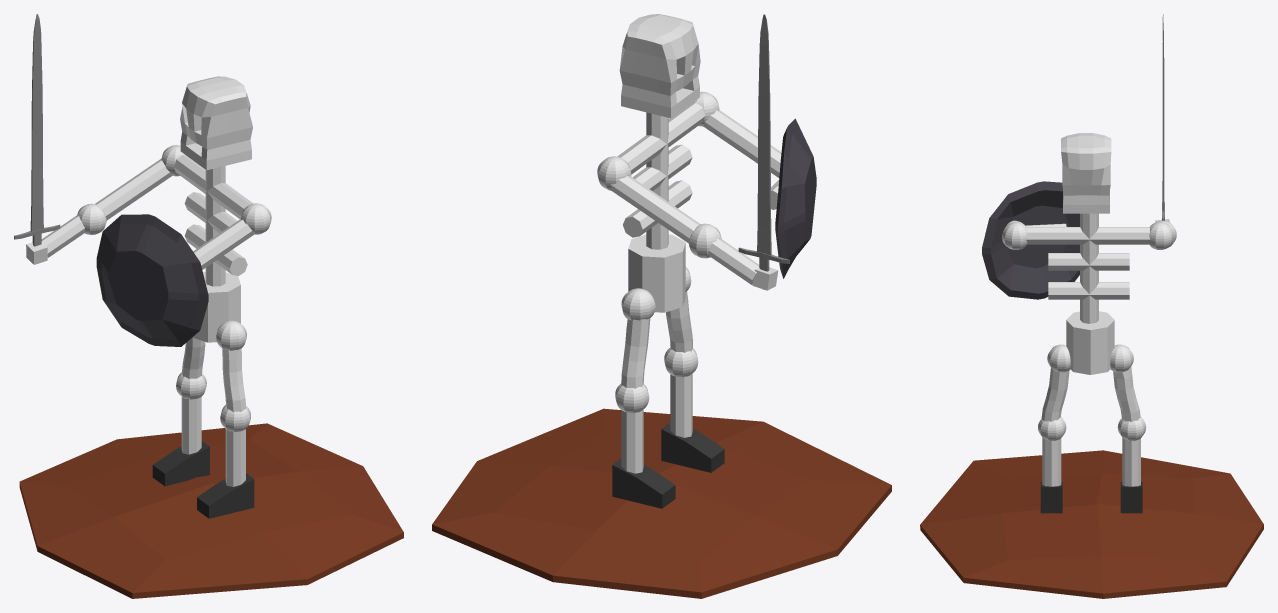
The model's file is esqueleto.fbx.
3 views of the same model, side by side, from view 1: azimuth 30°, elevation 25°; view 2: azimuth 150°, elevation 25°; view 3: azimuth 270°, elevation 25° (orthographic). The views are drawn at different scales.
Parts seen in each view (by area): view 1: Base, Esqueleto, Escudo_Redondo, Sapato, Espada; view 2: Base, Esqueleto, Escudo_Redondo, Sapato, Espada; view 3: Base, Esqueleto, Escudo_Redondo, Sapato, Espada.
Part boxes in pixels (left/top/right/bottom): Base: left=19, top=423, right=403, bottom=598; Esqueleto: left=26, top=76, right=271, bottom=486; Escudo_Redondo: left=96, top=214, right=208, bottom=346; Sapato: left=152, top=441, right=254, bottom=518; Espada: left=14, top=14, right=60, bottom=246; Base: left=432, top=408, right=891, bottom=598; Esqueleto: left=597, top=14, right=781, bottom=473; Escudo_Redondo: left=775, top=118, right=816, bottom=278; Sapato: left=612, top=422, right=724, bottom=508; Espada: left=738, top=14, right=789, bottom=289; Base: left=920, top=450, right=1263, bottom=598; Esqueleto: left=1002, top=133, right=1176, bottom=486; Escudo_Redondo: left=982, top=181, right=1079, bottom=299; Sapato: left=1040, top=482, right=1142, bottom=513; Espada: left=1162, top=14, right=1164, bottom=220.
Bounding box in the file's own units: 963 × 1427 × 975.
